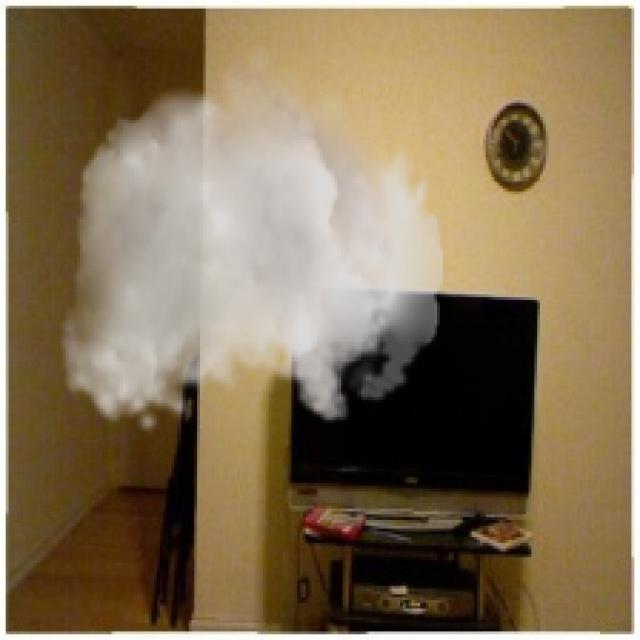smoke: (60, 37, 446, 434)
